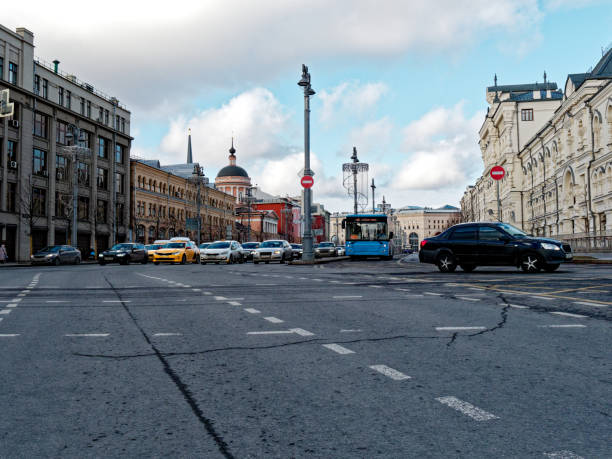Girilmez: (490, 163, 506, 184), (299, 176, 313, 187)
minibus: (336, 203, 402, 262)
otomobil: (408, 212, 585, 289), (93, 240, 148, 269), (146, 235, 205, 261), (199, 238, 242, 262), (254, 240, 300, 261)
